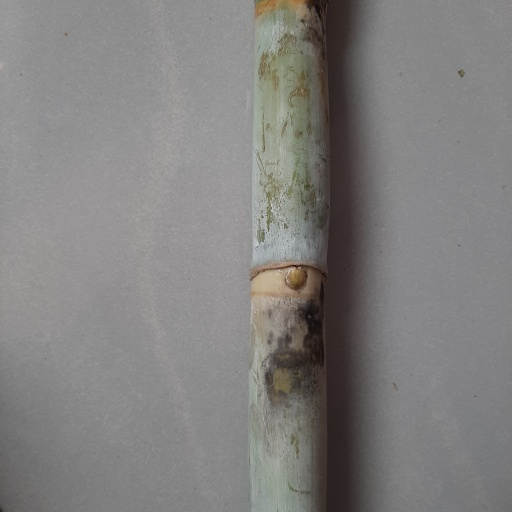Bud: (284, 267, 308, 291)
